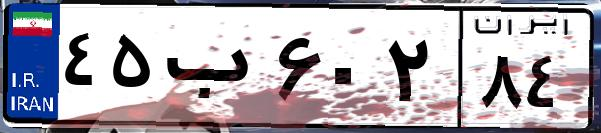0: (330, 28, 385, 110)
2: (385, 28, 445, 110)
4: (57, 26, 110, 100), (525, 38, 570, 115)
5: (110, 28, 158, 98)
6: (270, 28, 330, 110)
8: (475, 38, 525, 113)
ب: (158, 20, 270, 120)
